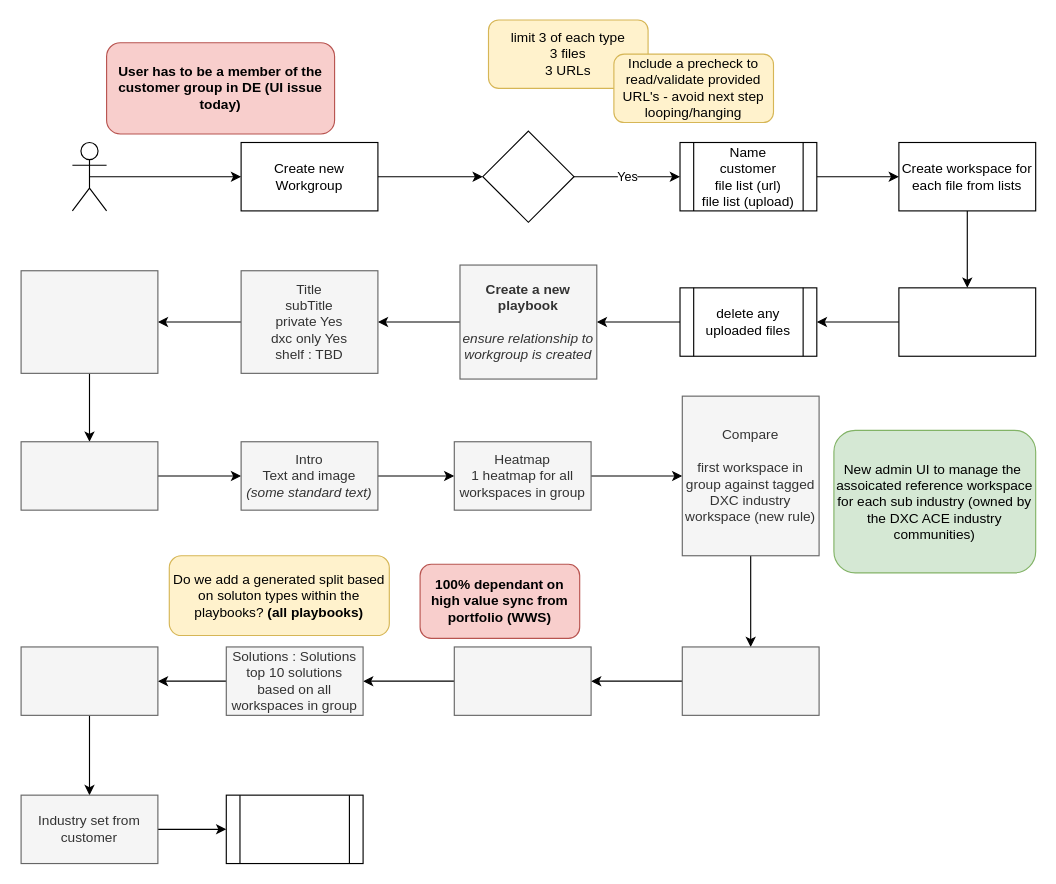
This 1056x884 diagram has some shape labels left out. Each missing label, with the centre of its shape:
"Add each URL from list as a reference card" belongs at point (967, 321).
"Auto?" belongs at point (528, 176).
"Contacts All workgroup members" belongs at point (89, 680).
"email workgroup members" belongs at point (294, 829).
"images set from customer industry (new rules)" belongs at point (89, 321).
"Pages" belongs at point (89, 475).
"Relastionship Builder / Designer / Innovator" belongs at point (89, 176).
"Solutions : Offerings top 10 sub-offerings based on all workspaces in group" belongs at point (522, 680).
"Trends Top 10 trends from all workspaces in group" belongs at point (750, 680).
